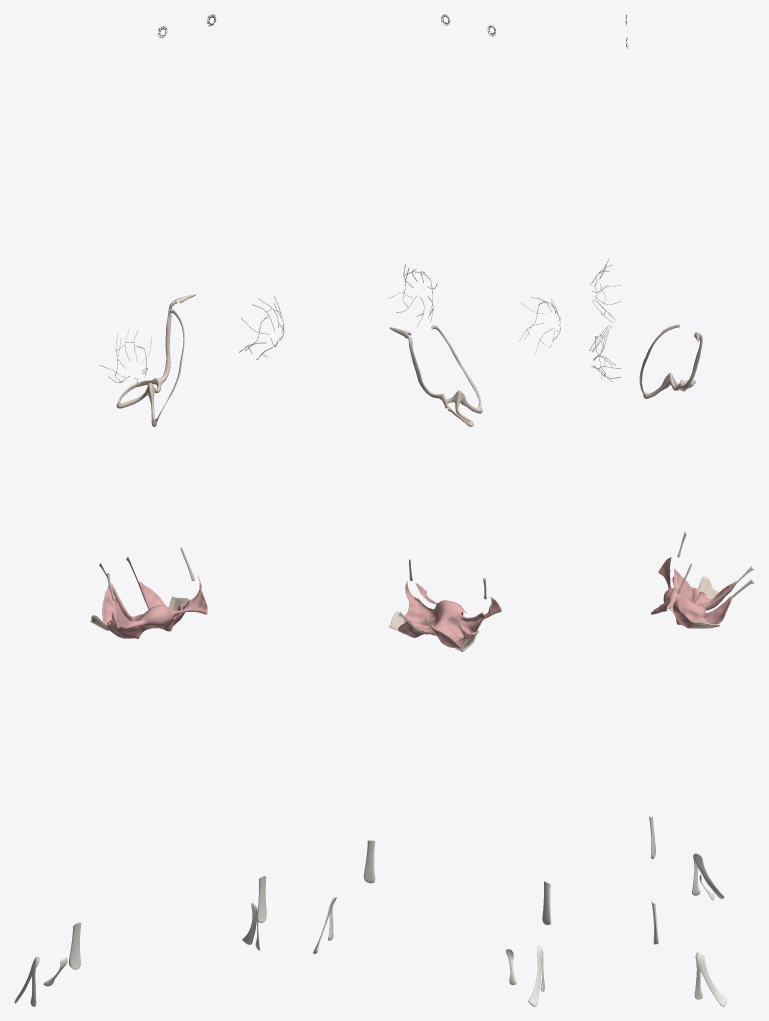
The model's file is female-a-binde-0.glb.
3 views of the same model, side by side, from view 1: azimuth 30°, elevation 25°; view 2: azimuth 150°, elevation 25°; view 3: azimuth 270°, elevation 25° (orthographic). The views are drawn at different scales.
Parts seen in each view (by area): view 1: VH_F_broad_ligament; view 2: VH_F_broad_ligament; view 3: VH_F_broad_ligament.
Part boxes in pixels (left/top/right/bottom): VH_F_broad_ligament: left=102, top=575, right=207, bottom=638; VH_F_broad_ligament: left=398, top=581, right=501, bottom=648; VH_F_broad_ligament: left=651, top=557, right=736, bottom=628.
Size of the model in its own units: 0.3017 by 1.2 by 0.1938.
